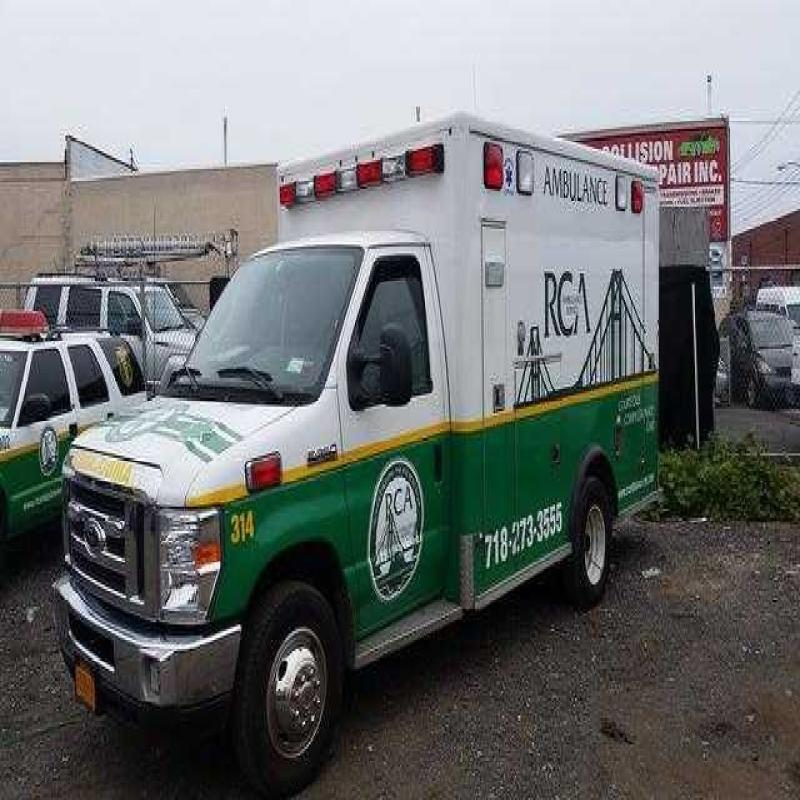AmbulanceSiren: (270, 134, 458, 224)
